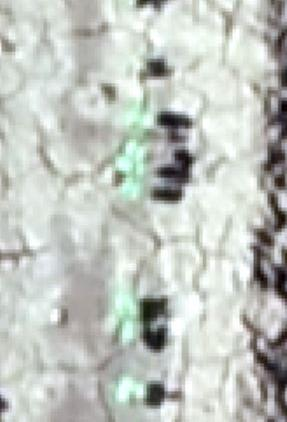cotton: (120, 148, 151, 172), (113, 295, 139, 320), (118, 379, 145, 403), (107, 321, 135, 342), (129, 114, 151, 138), (121, 179, 145, 194)
